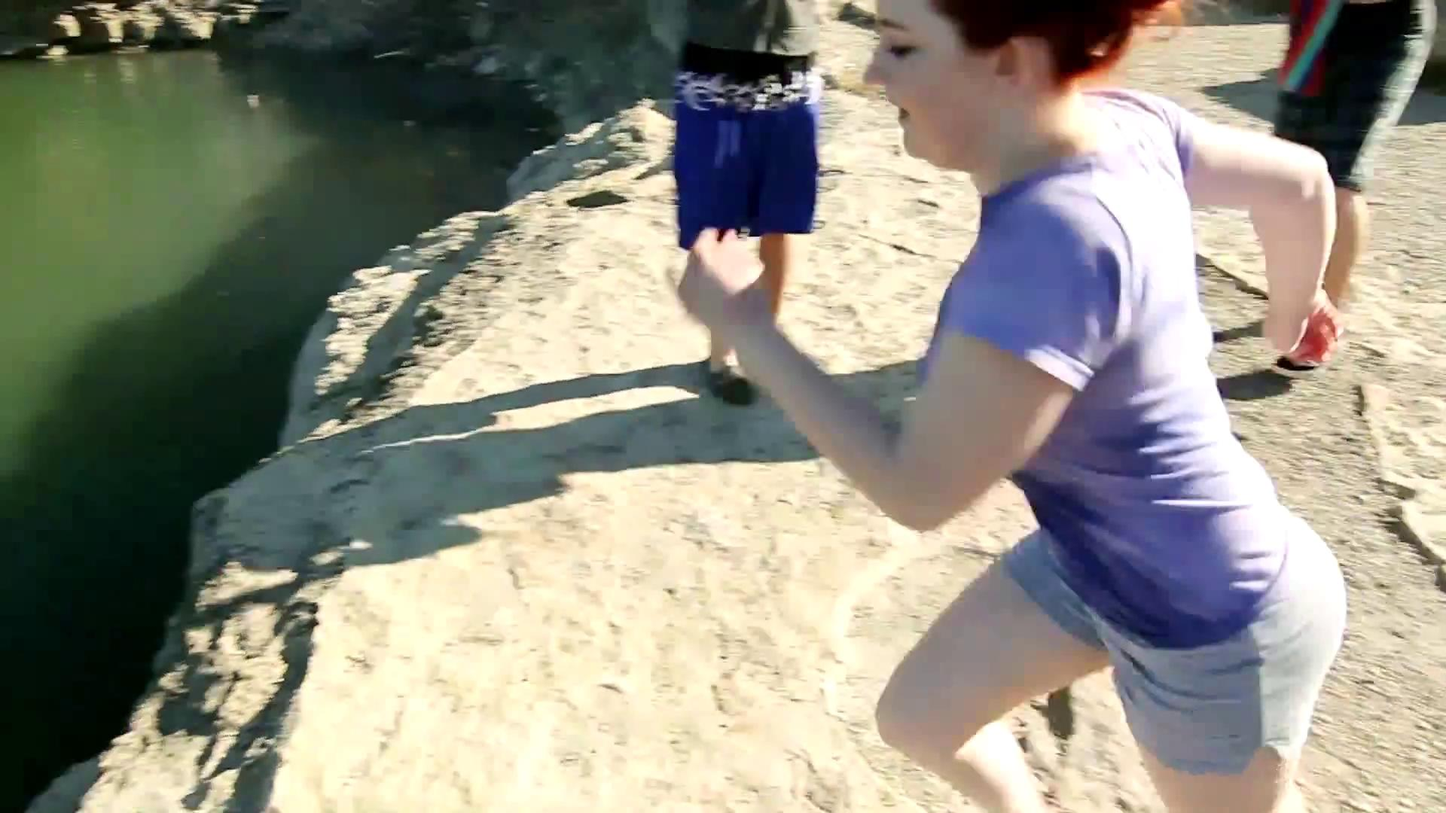victim: (675, 0, 1358, 813), (669, 7, 840, 406), (1268, 1, 1435, 401)
